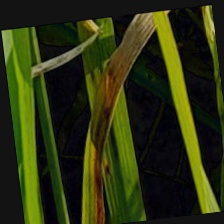Leaf_Blast: (73, 23, 159, 224)
